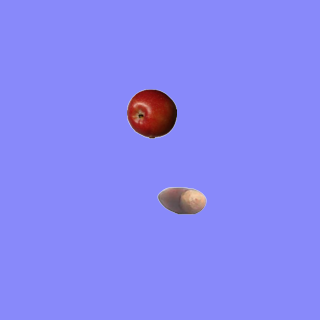Apple Braeburn: (126, 88, 176, 138)
Hazelnut: (156, 175, 206, 225)
